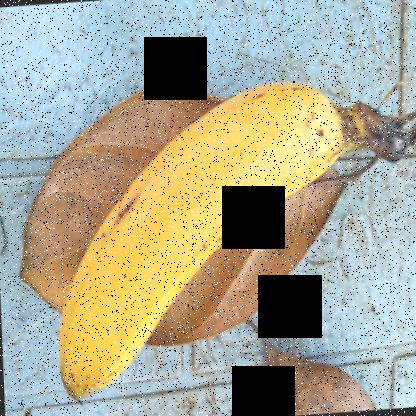freshripe: (50, 58, 345, 414)
